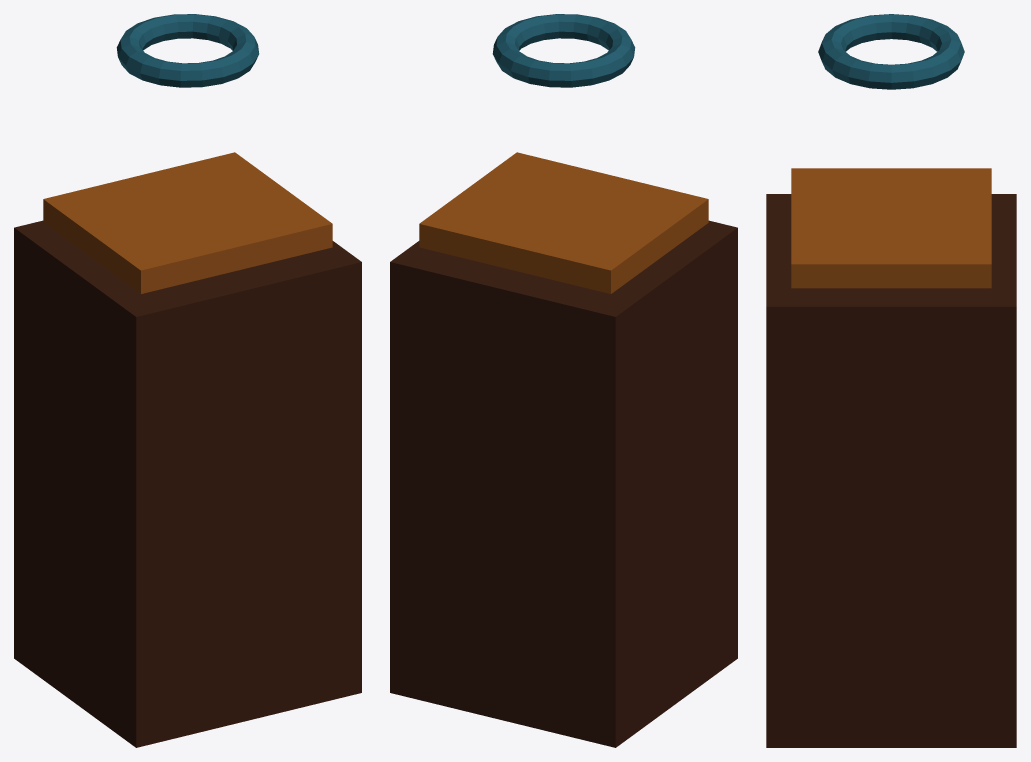
The model's file is desk_lamp.obj.
3 renders of one model, left to right at view 1: azimuth 30°, elevation 25°; view 2: azimuth 150°, elevation 25°; view 3: azimuth 270°, elevation 25°, orthographic. The views are drawn at different scales.
Parts seen in each view (by area): view 1: dark_wood, brass, glass; view 2: dark_wood, brass, glass; view 3: dark_wood, brass, glass.
Part boxes in pixels (<box>): dark_wood: <box>14,220,361,747</box>; brass: <box>43,152,332,293</box>; glass: <box>116,14,259,87</box>; dark_wood: <box>390,220,737,747</box>; brass: <box>419,152,708,293</box>; glass: <box>492,14,635,87</box>; dark_wood: <box>766,194,1016,747</box>; brass: <box>791,168,991,288</box>; glass: <box>818,14,964,89</box>.
Bounding box in the file's own units: 0.8 × 2.16 × 0.75.
